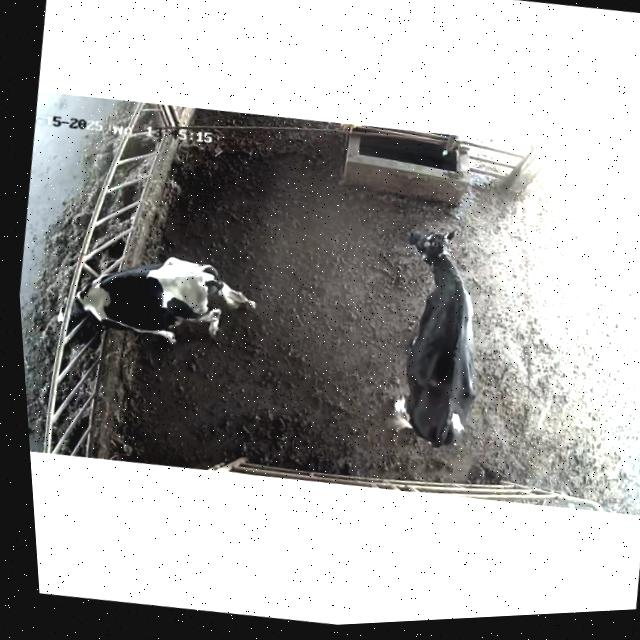stand: (367, 214, 521, 470)
